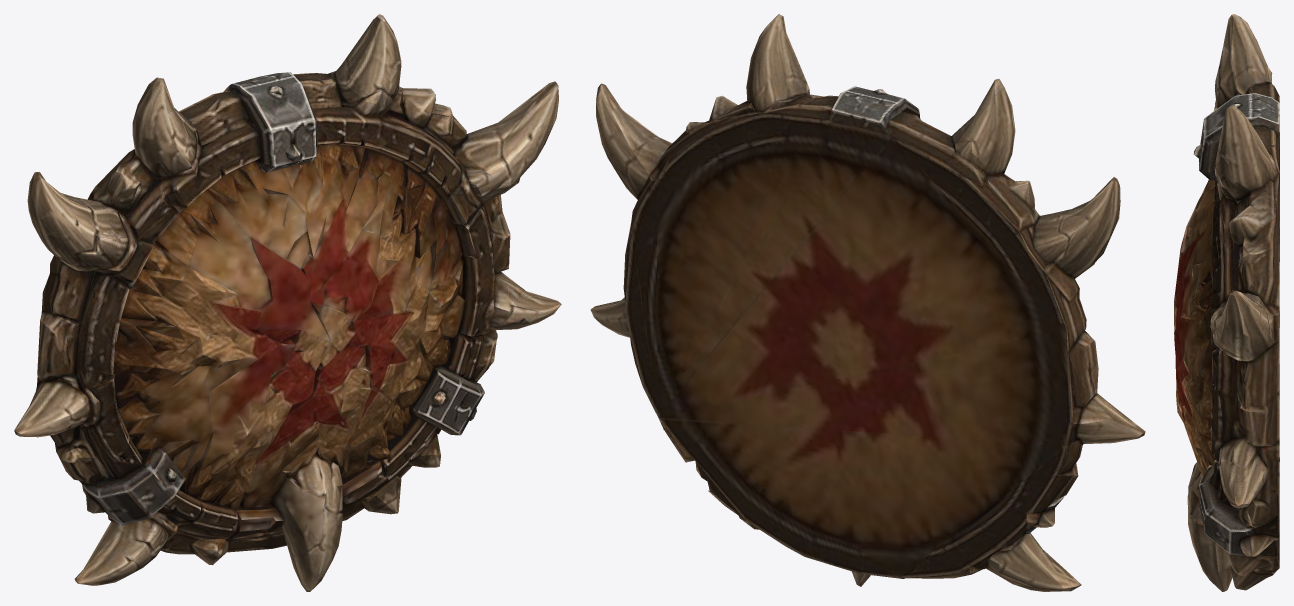
Rendered from thornhide_shield.glb.
The picture shows the model from 3 angles, left to right: view 1: azimuth 30°, elevation 25°; view 2: azimuth 150°, elevation 25°; view 3: azimuth 270°, elevation 25°; orthographic projection. The views are drawn at different scales.
Size of the model in its own units: 1.04 by 1 by 0.185.
Materials: 1 (1 with a texture image).
